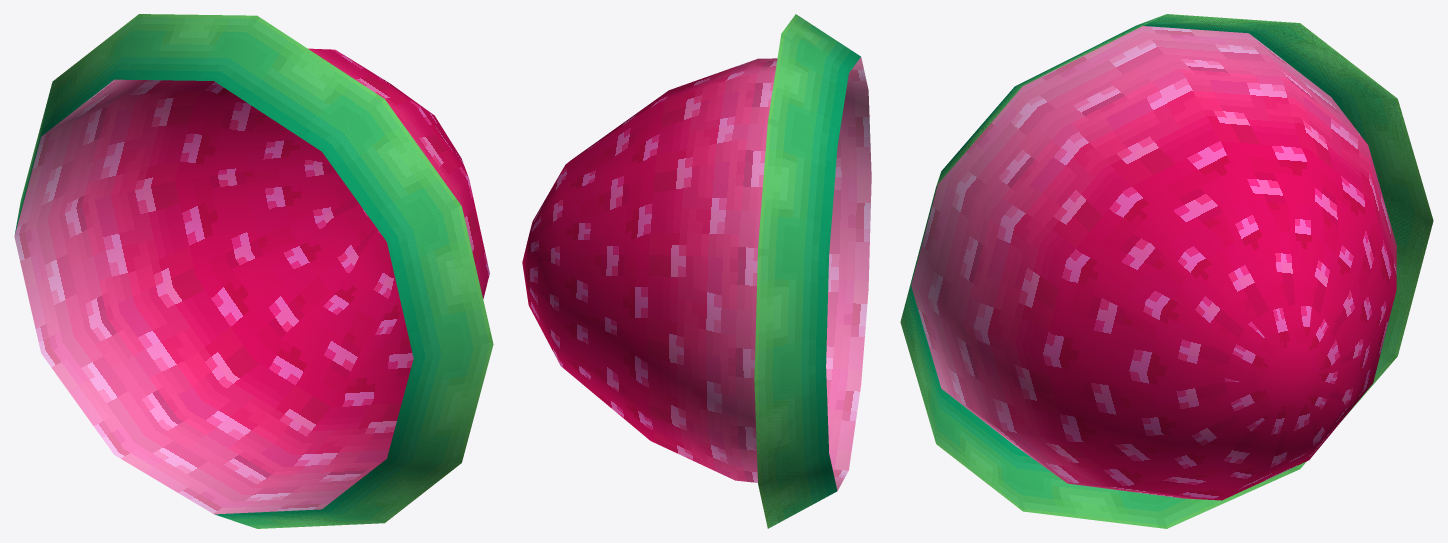
Rendered from cap_fruit_strawberry.dae.
The picture shows the model from 3 angles, left to right: view 1: azimuth 30°, elevation 25°; view 2: azimuth 150°, elevation 25°; view 3: azimuth 270°, elevation 25°; orthographic projection. The views are drawn at different scales.
Visible parts, largest first — view 1: cap_fruit_strawberry; view 2: cap_fruit_strawberry; view 3: cap_fruit_strawberry.
Boxes of the visible parts, left/top/right/bottom form: cap_fruit_strawberry: left=14, top=14, right=493, bottom=528; cap_fruit_strawberry: left=522, top=14, right=871, bottom=528; cap_fruit_strawberry: left=900, top=14, right=1433, bottom=528.
Bounding box in the file's own units: 19.03 × 25.05 × 23.5.
Materials: 2 (2 with a texture image).
